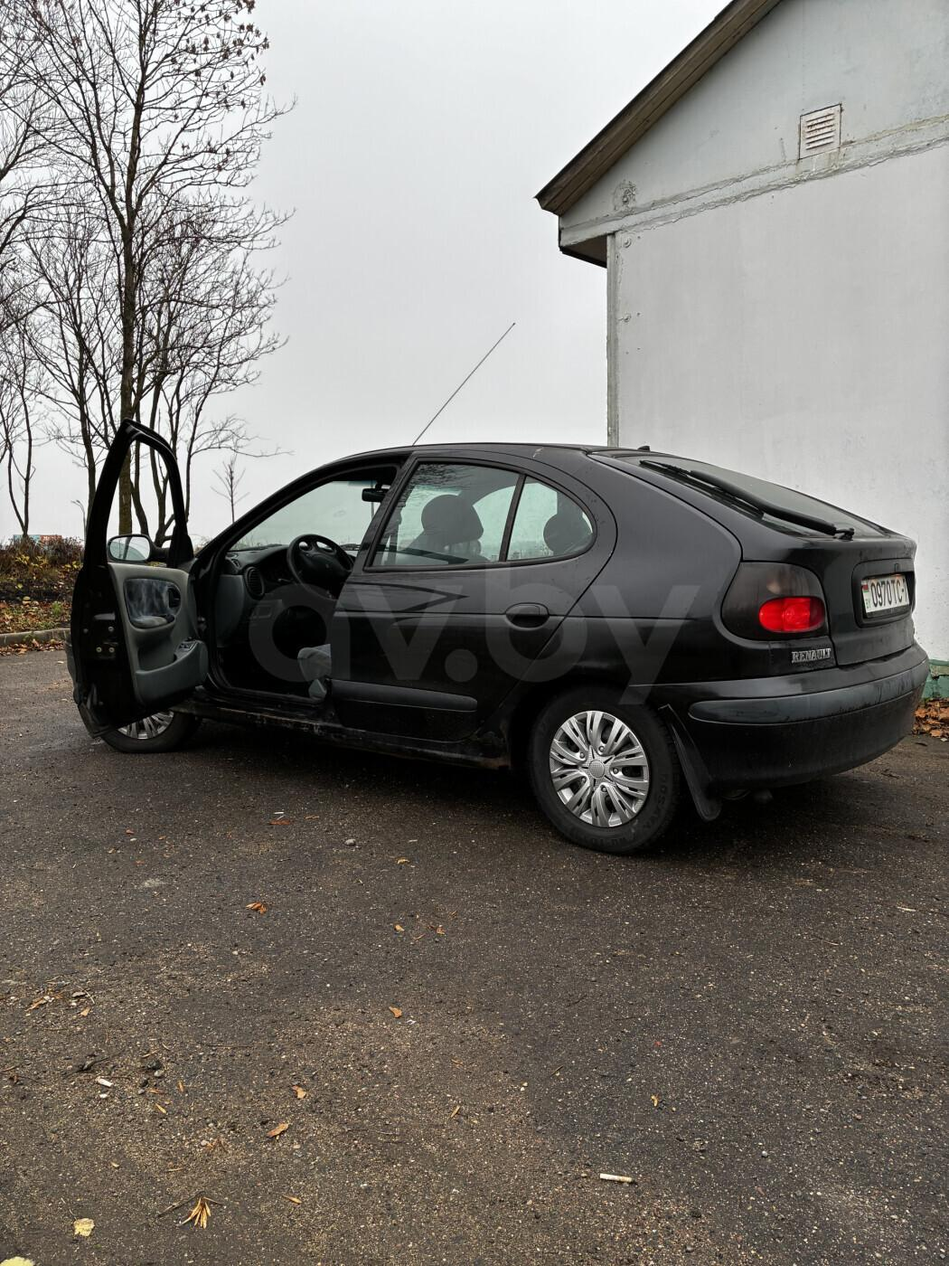Megane_1995-1999: (87, 439, 922, 861)
